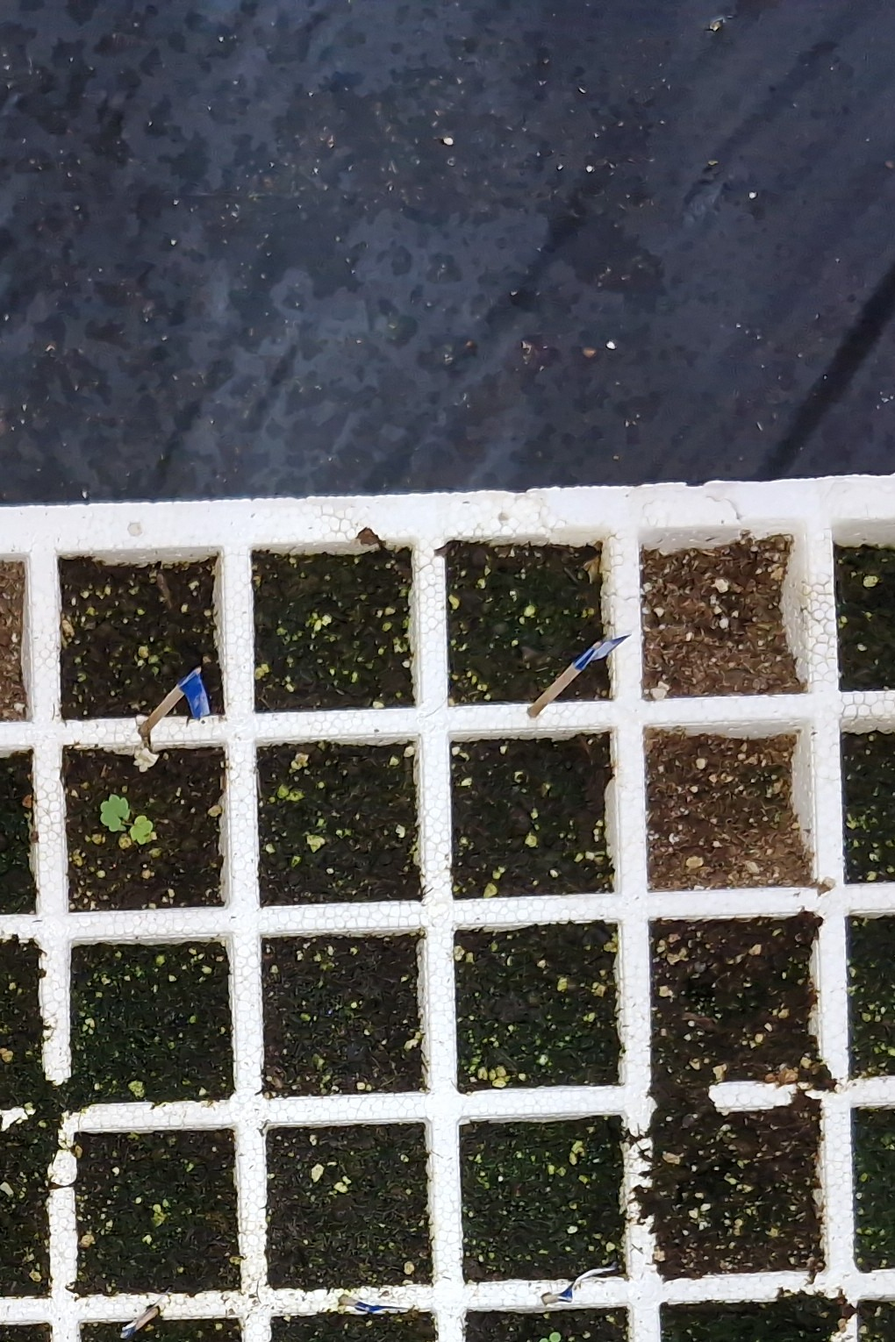Folha: (101, 796, 128, 831), (130, 816, 153, 845)
Germinacao: (100, 794, 153, 845)
